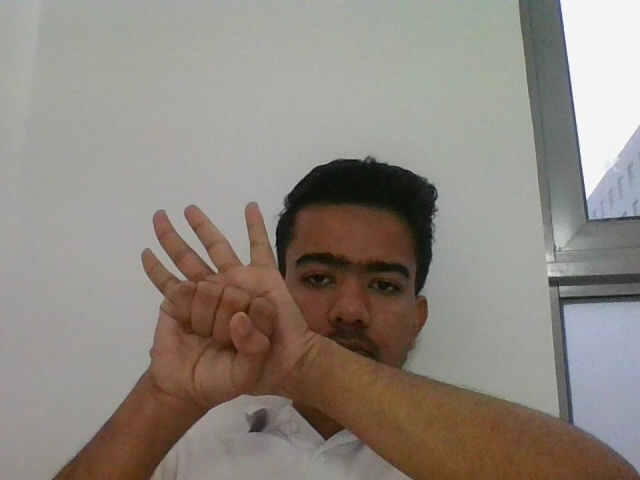coronavirus: (136, 200, 295, 406)
